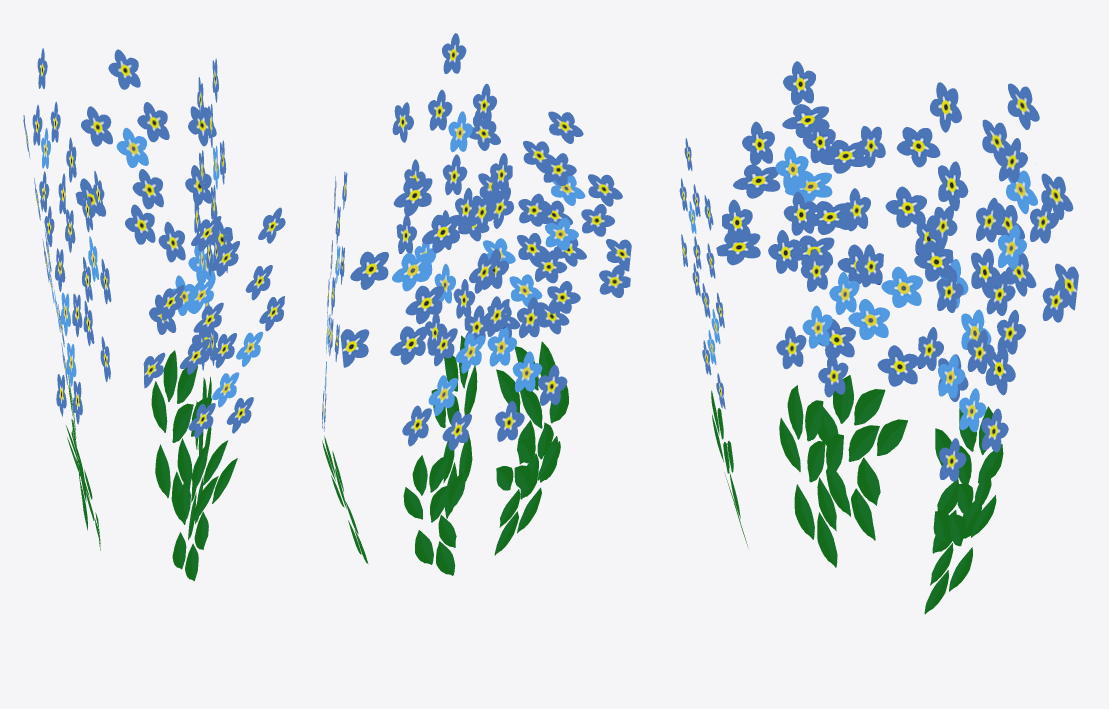
File: PT_Forgetmenot_02.fbx
The picture shows the model from 3 angles, left to right: view 1: azimuth 30°, elevation 25°; view 2: azimuth 150°, elevation 25°; view 3: azimuth 270°, elevation 25°; orthographic projection. The views are drawn at different scales.
Visible parts, largest first — view 1: PT_Forgetmenot_02_LOD0; view 2: PT_Forgetmenot_02_LOD0; view 3: PT_Forgetmenot_02_LOD0.
Part boxes in pixels (x1,y1,x2,y2): PT_Forgetmenot_02_LOD0: (23,48,285,580); PT_Forgetmenot_02_LOD0: (322,33,631,575); PT_Forgetmenot_02_LOD0: (679,61,1078,614).
Size of what is drawn, in the model's own units: 25.39 by 65.38 by 38.72.
